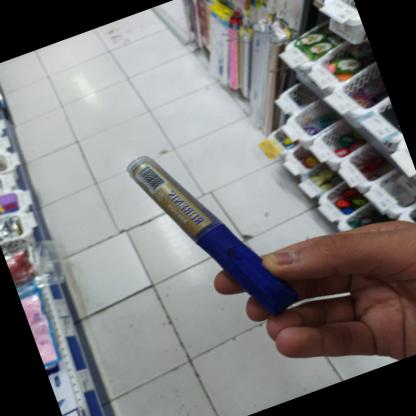pencil: (120, 157, 298, 319)
